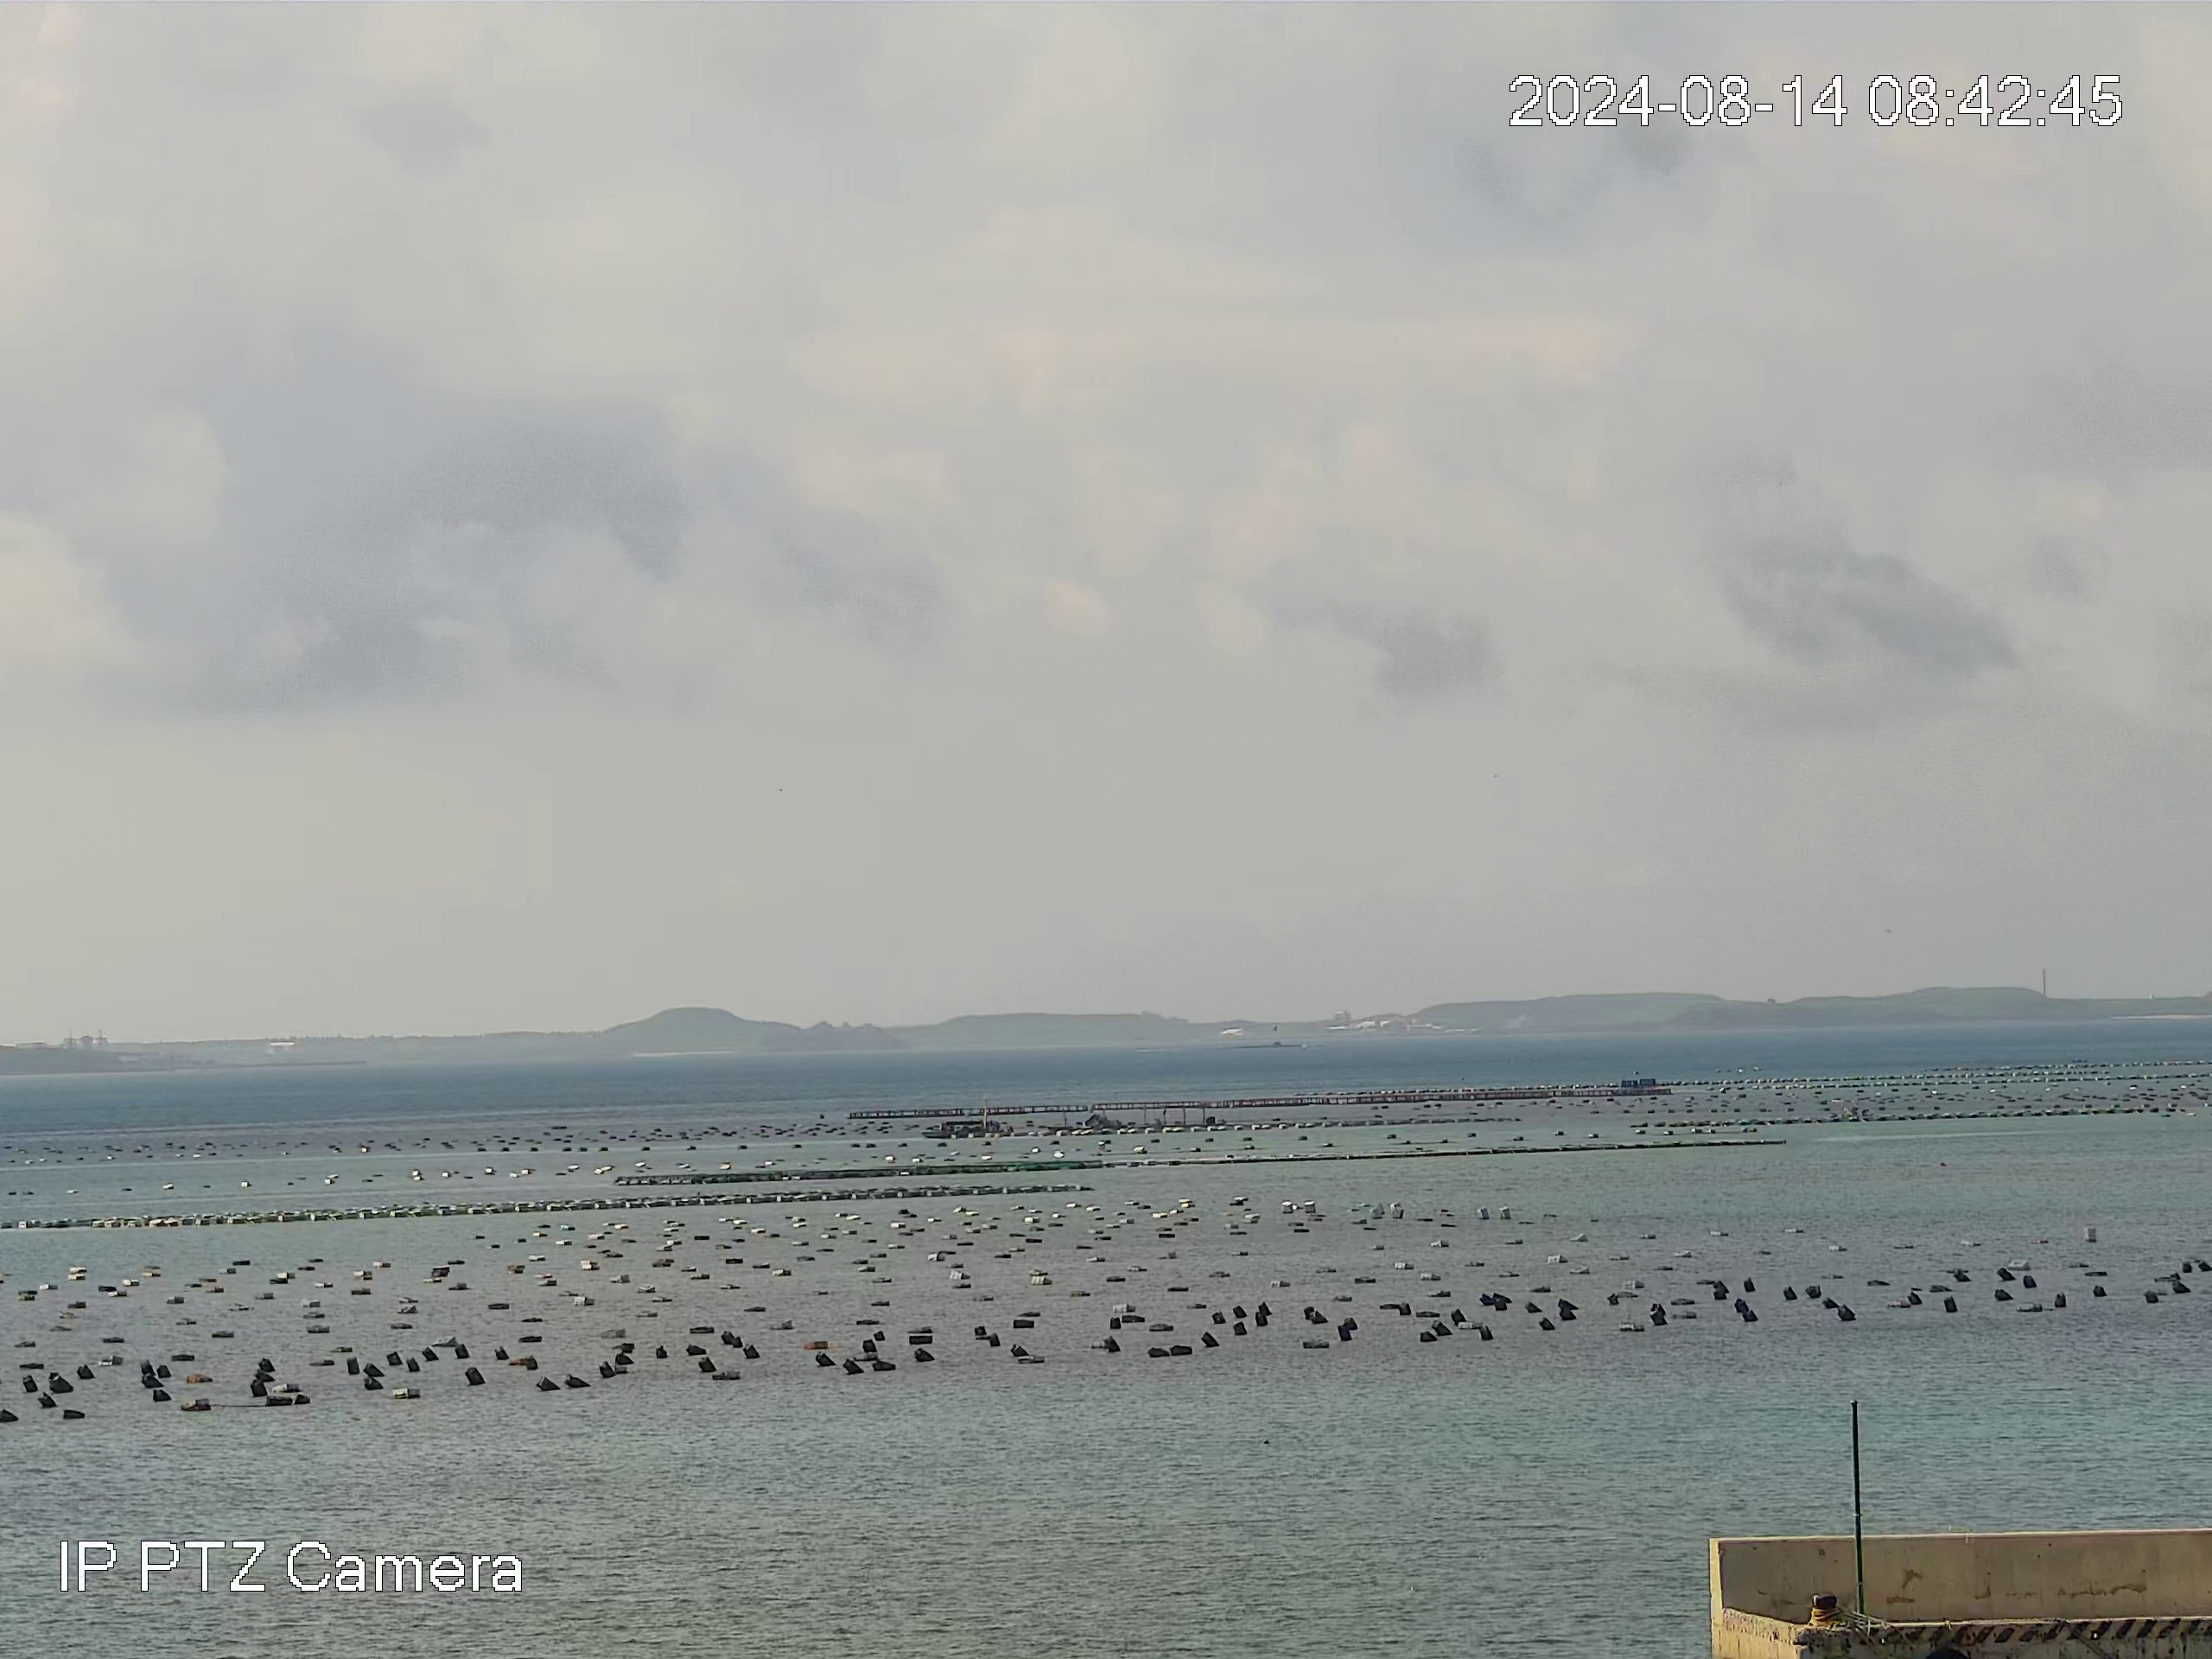boat: (918, 1119, 1007, 1141)
